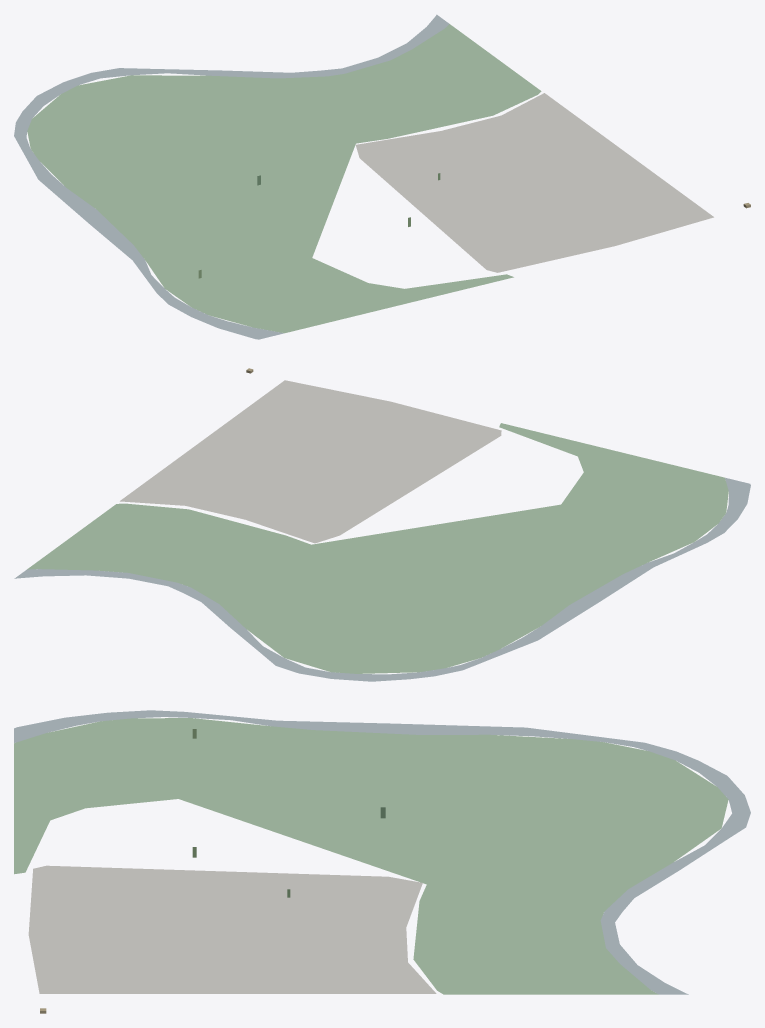
3 views of the same model, one above another, from view 1: azimuth 30°, elevation 25°; view 2: azimuth 150°, elevation 25°; view 3: azimuth 270°, elevation 25° (orthographic). The views are drawn at different scales.
Size of the model in its own units: 460 by 8.19 by 469.
